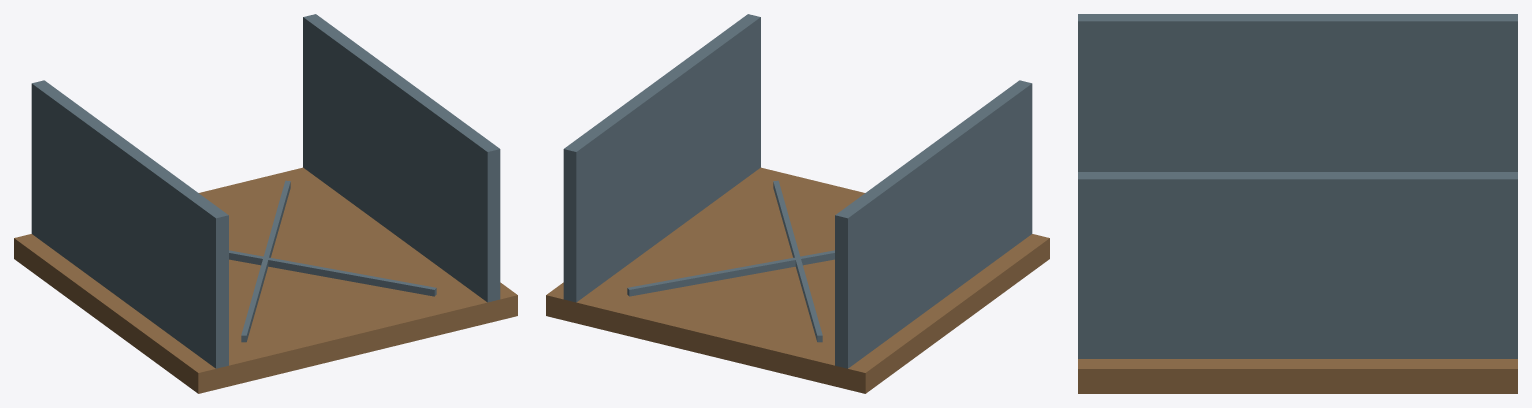
Rendered from terrain-bridge-metal.lod0.glb.
3 renders of one model, left to right at view 1: azimuth 30°, elevation 25°; view 2: azimuth 150°, elevation 25°; view 3: azimuth 270°, elevation 25°, orthographic. The views are drawn at different scales.
Parts seen in each view (by area): view 1: terrain-bridge-metal__body; view 2: terrain-bridge-metal__body; view 3: terrain-bridge-metal__body.
Boxes of the visible parts, x1,y1,x2,y2 form: terrain-bridge-metal__body: (14,14,517,393); terrain-bridge-metal__body: (546,14,1049,393); terrain-bridge-metal__body: (1078,14,1517,393).
Bounding box in the file's own units: 2 × 1.02 × 2.
